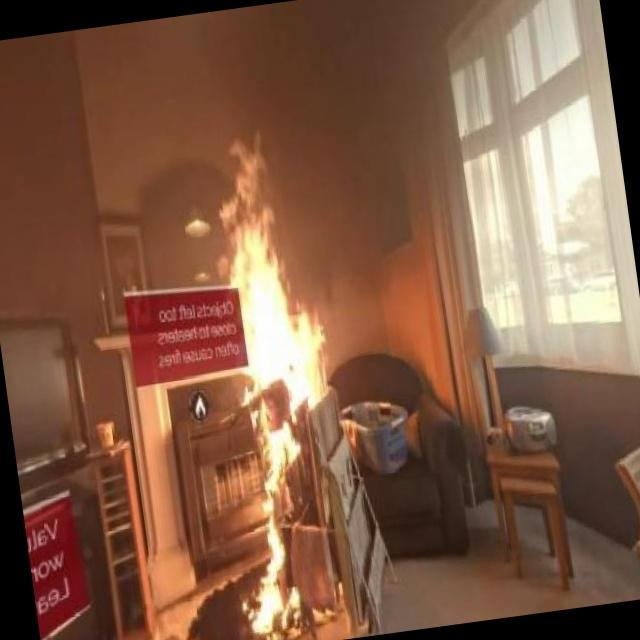fire: (216, 140, 316, 398)
